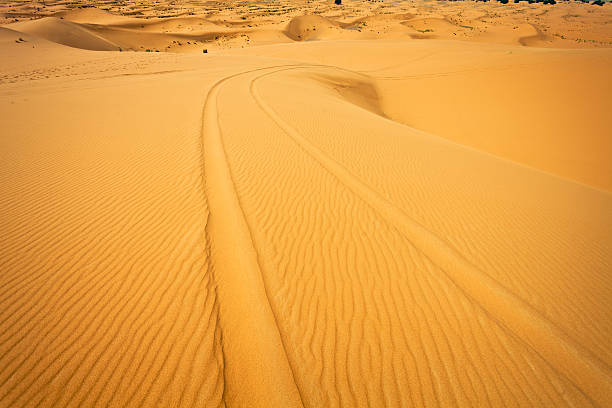vehicle_track: (250, 67, 611, 405), (201, 66, 302, 406)
